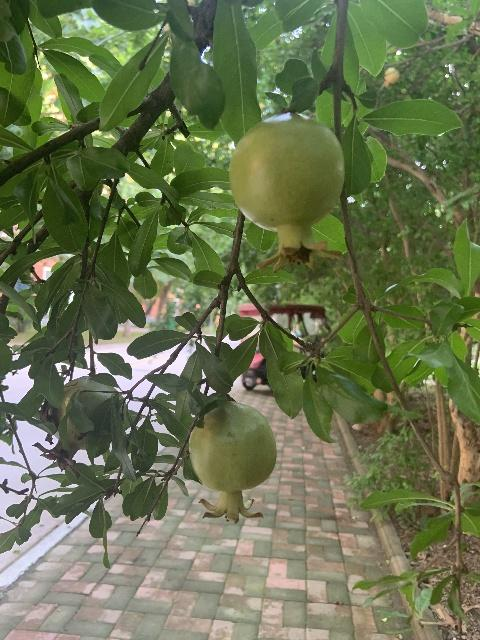mid-growth: (229, 112, 345, 274), (188, 401, 276, 525), (31, 375, 126, 479)
